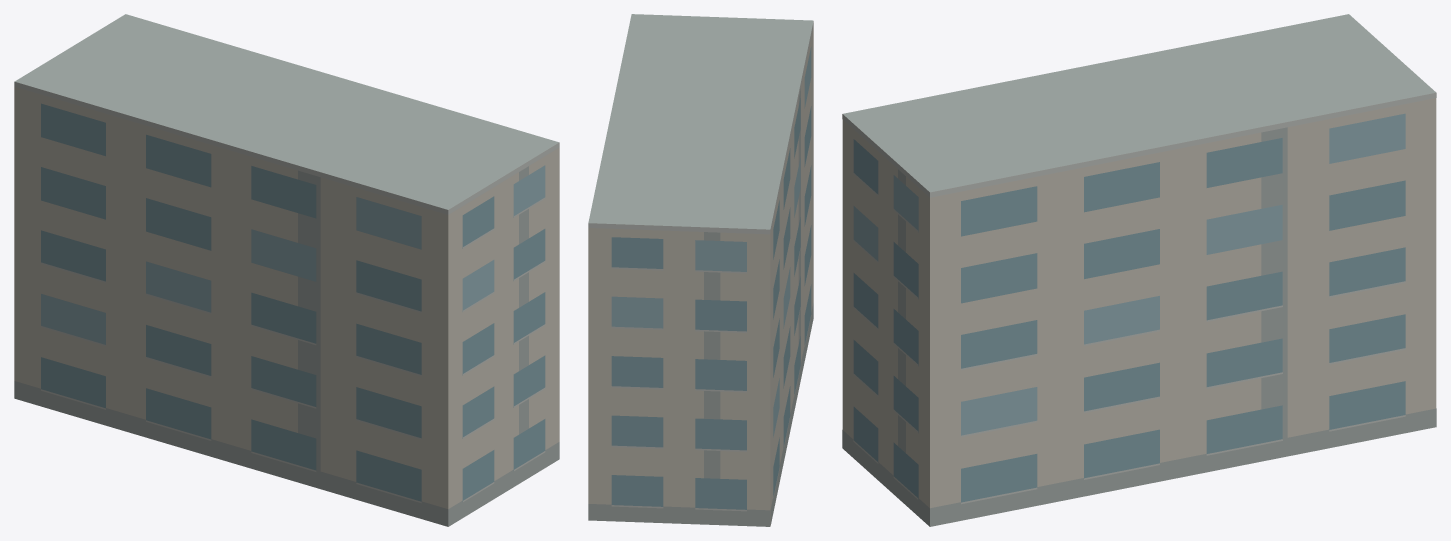
File: survey-upis-32673135.glb
The picture shows the model from 3 angles, left to right: view 1: azimuth 30°, elevation 25°; view 2: azimuth 150°, elevation 25°; view 3: azimuth 270°, elevation 25°; orthographic projection. The views are drawn at different scales.
Visible parts, largest first — view 1: survey-upis-32673135.tmp; view 2: survey-upis-32673135.tmp; view 3: survey-upis-32673135.tmp.
Part boxes in pixels (<box>): survey-upis-32673135.tmp: <box>14,14,559,526</box>; survey-upis-32673135.tmp: <box>588,14,813,526</box>; survey-upis-32673135.tmp: <box>842,14,1436,526</box>.
Bounding box in the file's own units: 17.46 × 15.25 × 24.55.
